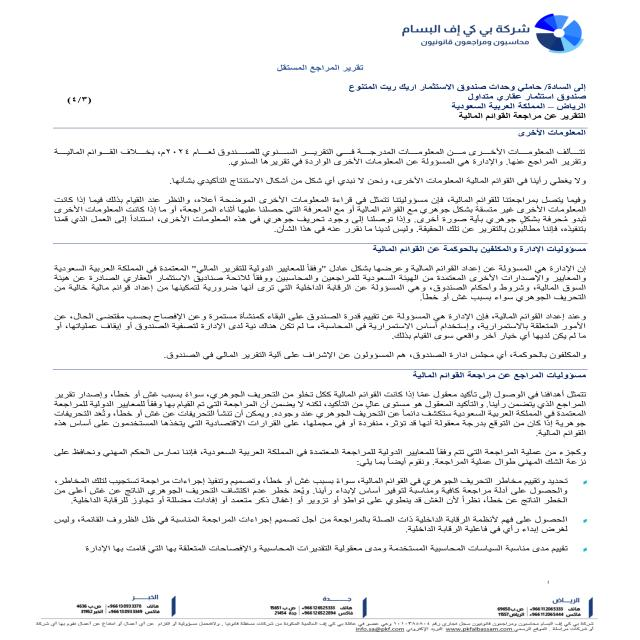auditor_report: (256, 60, 376, 78)
